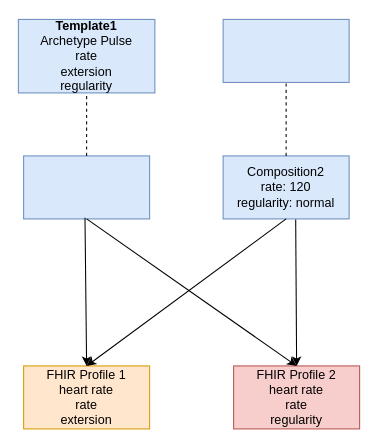
The diagram is 378 pixels wide and 447 high, and some of its shapes have lost their labels. The shapes that lost their labels are listed below. From the top down, each one's centre as x and y in pixels, then its label:
At [285,50]: "Template2 Archetype Pulse rate regularity".
At [86,187]: "Composition1 rate: 120 extersion: high regularity: normal".
